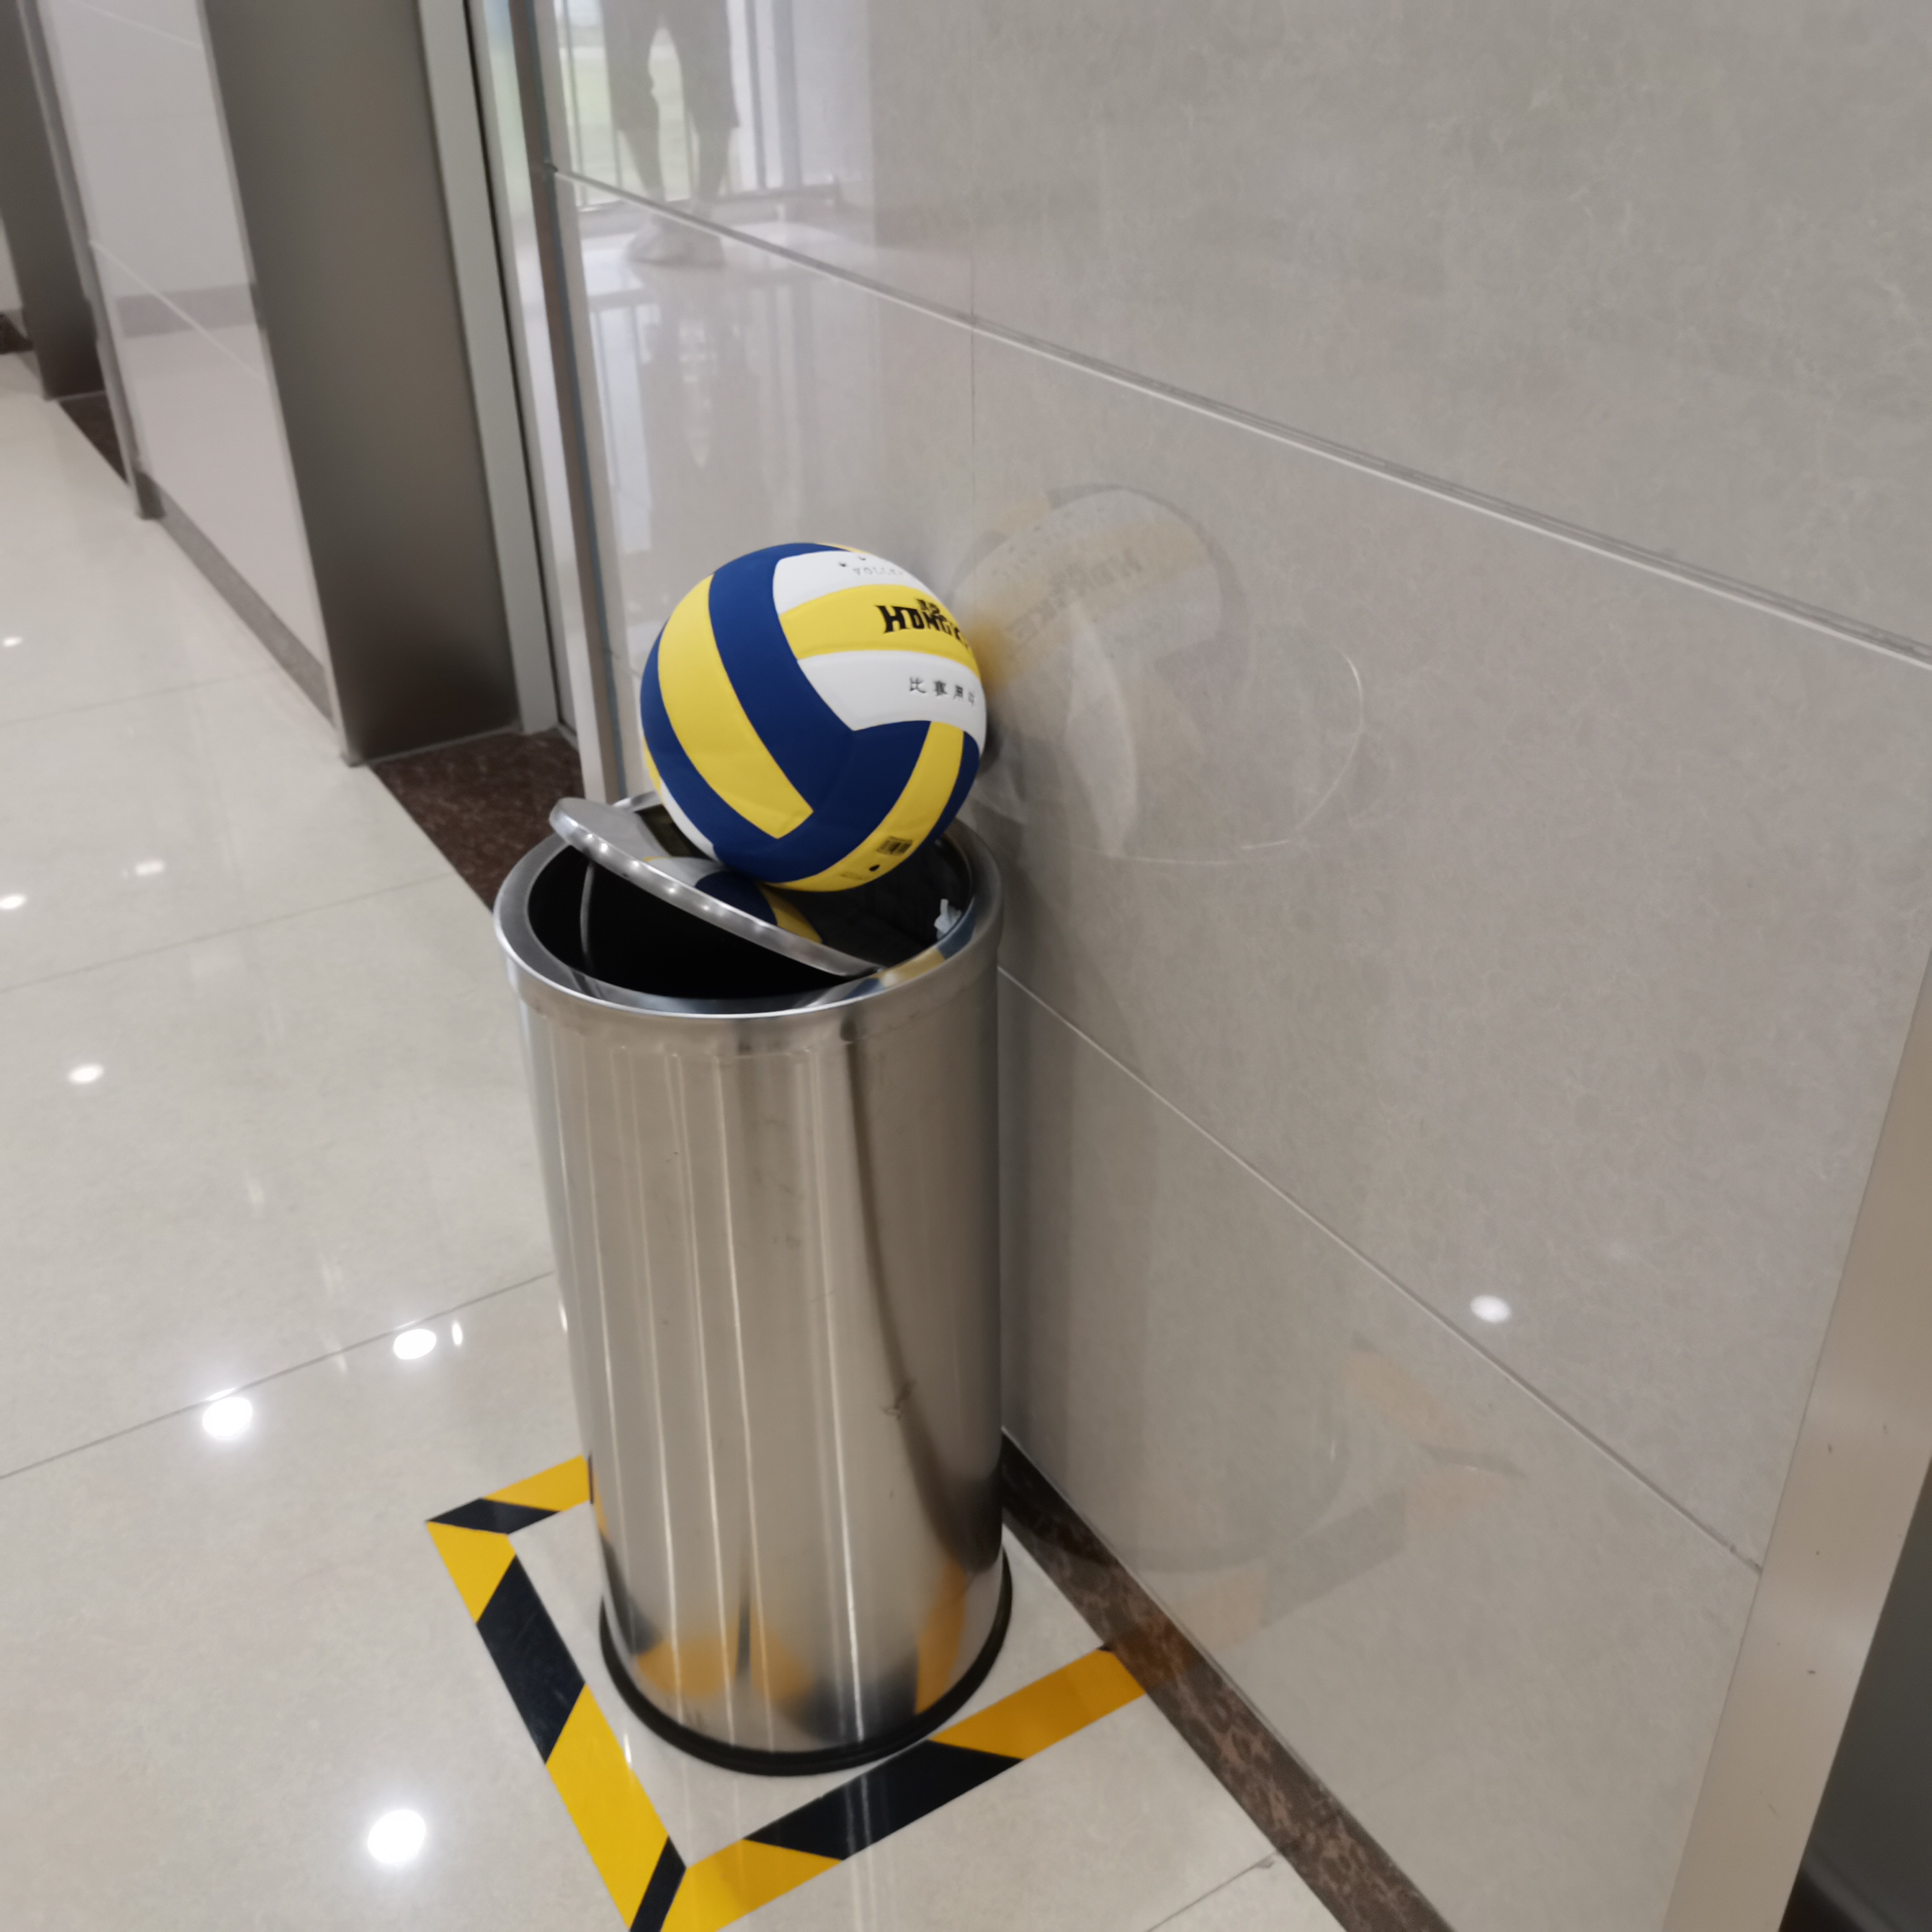volleyball: (639, 540, 993, 890)
